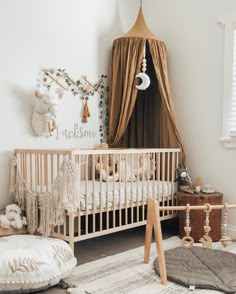crib: (13, 148, 181, 257)
